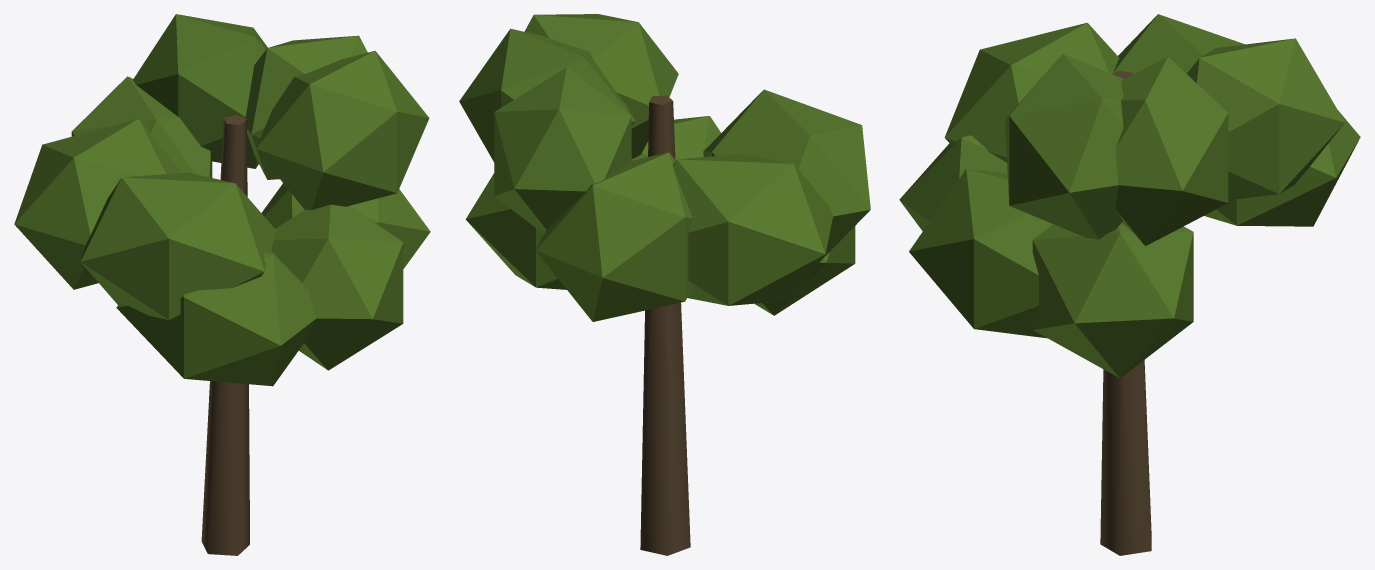
The picture shows the model from 3 angles, left to right: view 1: azimuth 30°, elevation 25°; view 2: azimuth 150°, elevation 25°; view 3: azimuth 270°, elevation 25°; orthographic projection. The views are drawn at different scales.
Parts seen in each view (by area): view 1: oak-leaf; view 2: oak-leaf; view 3: oak-leaf.
Part boxes in pixels (box(x1,y1,x2,y2)): oak-leaf: box(14, 14, 430, 555); oak-leaf: box(459, 14, 870, 555); oak-leaf: box(899, 14, 1360, 555).
Bounding box in the file's own units: 6.88 × 8.5 × 6.83.
